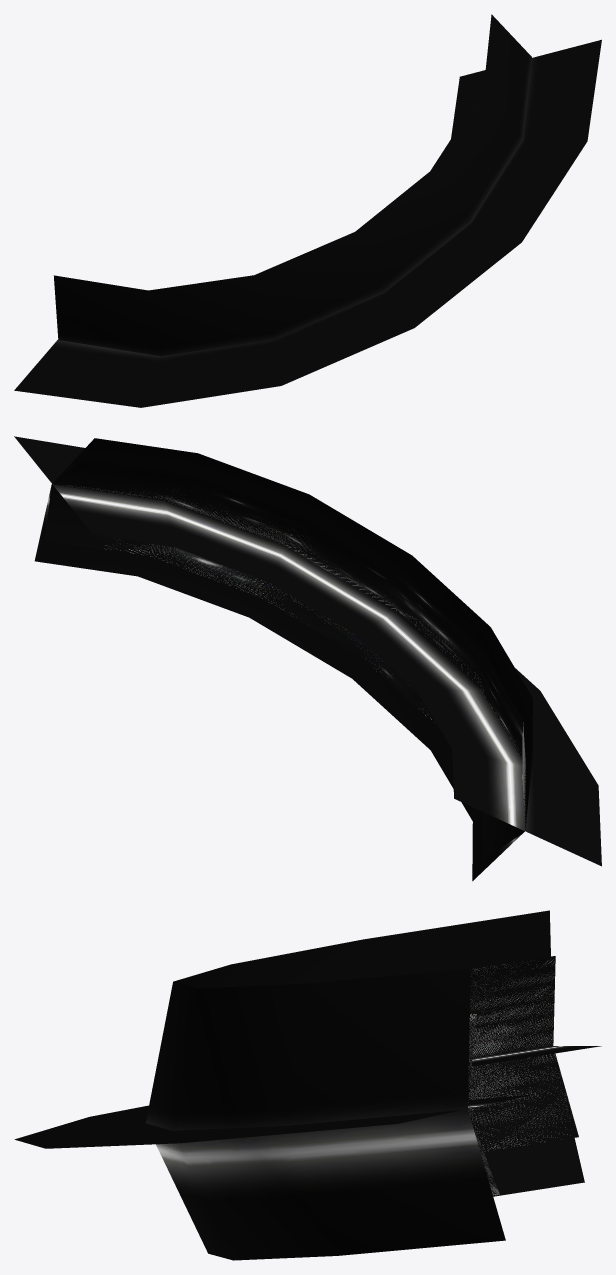
Rendered from Effect_1120_4attack_S #048018.fbx.
The picture shows the model from 3 angles, top to bottom: view 1: azimuth 30°, elevation 25°; view 2: azimuth 150°, elevation 25°; view 3: azimuth 270°, elevation 25°; orthographic projection. The views are drawn at different scales.
Visible parts, largest first — view 1: Sphere002; view 2: Sphere002, Sphere002 (1), Sphere002 (2); view 3: Sphere002, Sphere002 (1), Sphere002 (2).
Boxes of the visible parts, x1,y1,x2,y2 form: Sphere002: (14,14,601,407); Sphere002: (14,436,601,881); Sphere002 (1): (44,458,525,860); Sphere002 (2): (66,485,525,824); Sphere002: (14,910,601,1260); Sphere002 (1): (468,956,578,1195); Sphere002 (2): (468,959,567,1195).
Bounding box in the file's own units: 6.57 × 3.25 × 3.04.
Materials: 3 (3 with a texture image).
